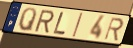4: (87, 14, 106, 42)
I: (71, 12, 84, 39)
L: (52, 11, 67, 36)
Q: (17, 7, 38, 33)
R: (103, 17, 125, 43), (33, 10, 55, 34)
